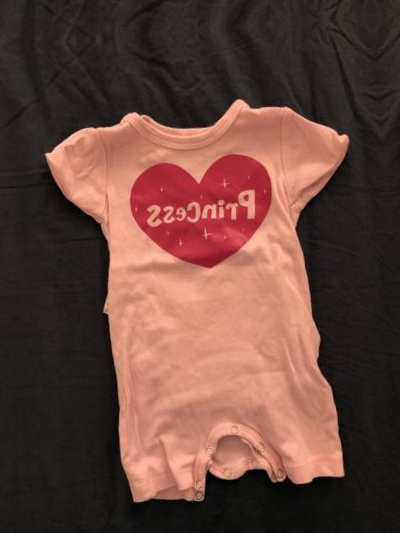Body: (27, 68, 400, 531), (383, 36, 400, 500), (0, 104, 3, 533)
